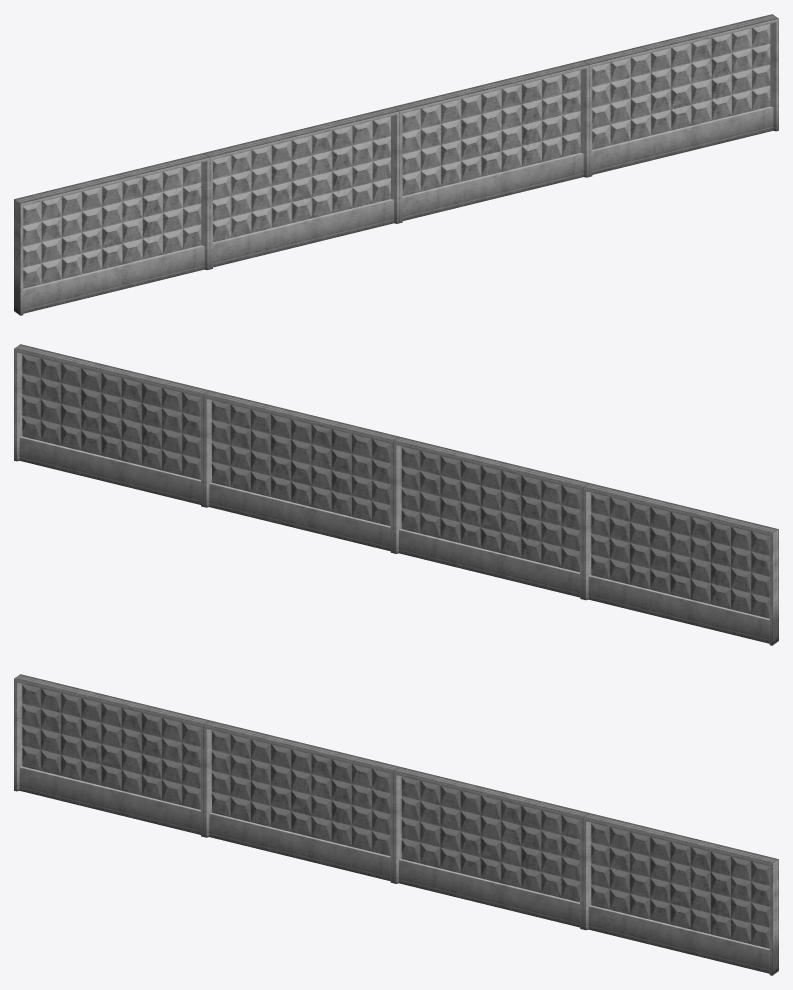
Rendered from FenceConcrete1_3.FBX.
3 renders of one model, top to bottom at view 1: azimuth 30°, elevation 25°; view 2: azimuth 150°, elevation 25°; view 3: azimuth 330°, elevation 25°, orthographic.
Visible parts, largest first — view 1: FenceConcrete1; view 2: FenceConcrete1; view 3: FenceConcrete1.
Boxes of the visible parts, x1=… form: FenceConcrete1: x1=14, y1=14, x2=778, y2=315; FenceConcrete1: x1=14, y1=344, x2=778, y2=645; FenceConcrete1: x1=14, y1=674, x2=778, y2=975.
Bounding box in the file's own units: 630 × 88.82 × 9.23.
